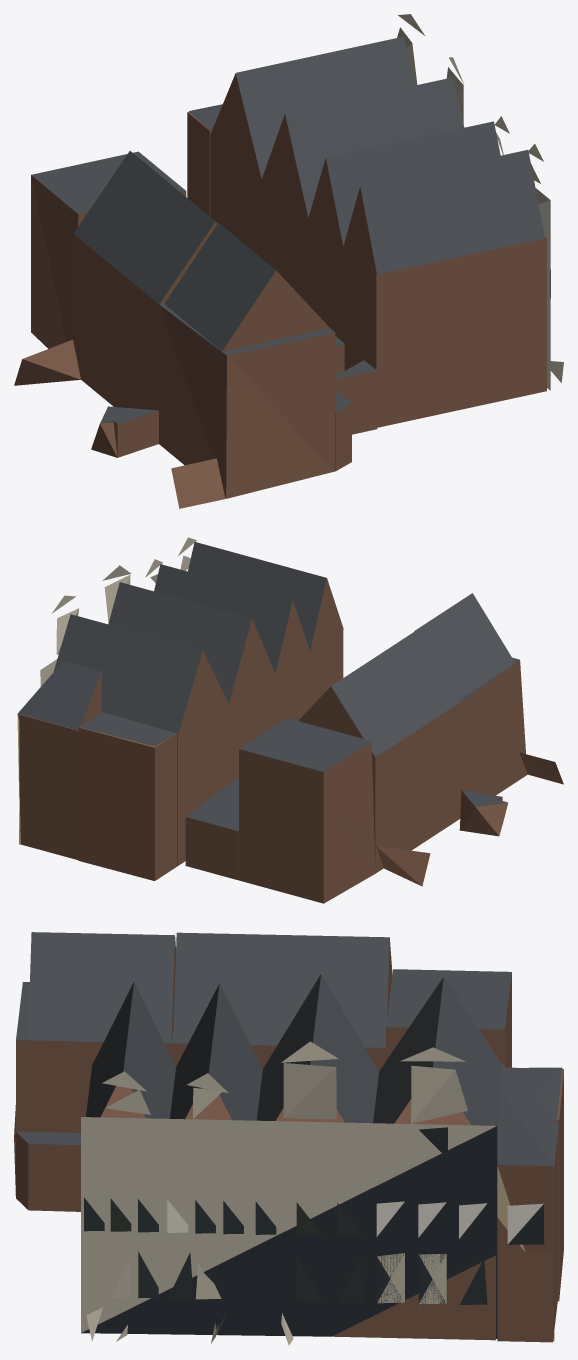
File: cromhouthuizen.lod2.glb
The picture shows the model from 3 angles, top to bottom: view 1: azimuth 30°, elevation 25°; view 2: azimuth 150°, elevation 25°; view 3: azimuth 270°, elevation 25°; orthographic projection. The views are drawn at different scales.
Visible parts, largest first — view 1: lod2; view 2: lod2; view 3: lod2.
Part boxes in pixels (bbox=[...]): lod2: bbox=[14, 14, 563, 508]; lod2: bbox=[17, 537, 563, 903]; lod2: bbox=[14, 932, 563, 1345].
Bounding box in the file's own units: 39.43 × 22.6 × 38.27.
